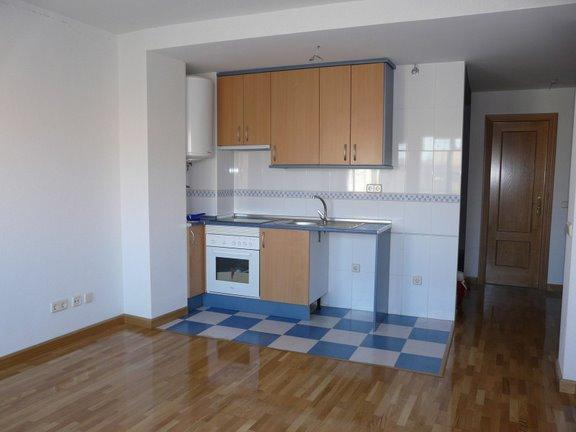Electrodomestico: (206, 221, 261, 297)
Lavaplatos: (287, 192, 365, 233)
Puerta: (489, 118, 547, 288)
